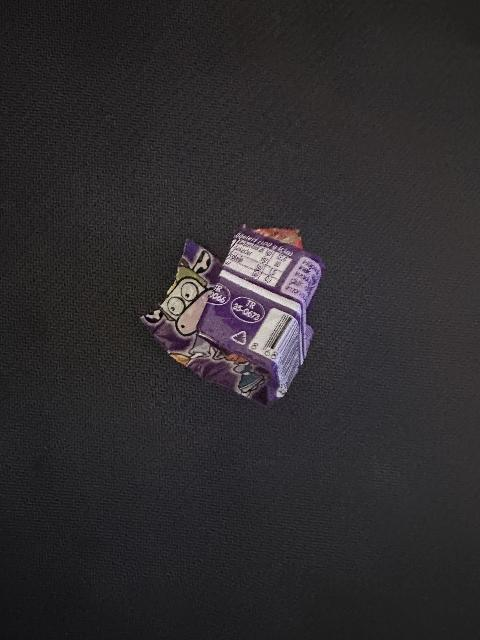Kagit: (135, 225, 330, 402)
